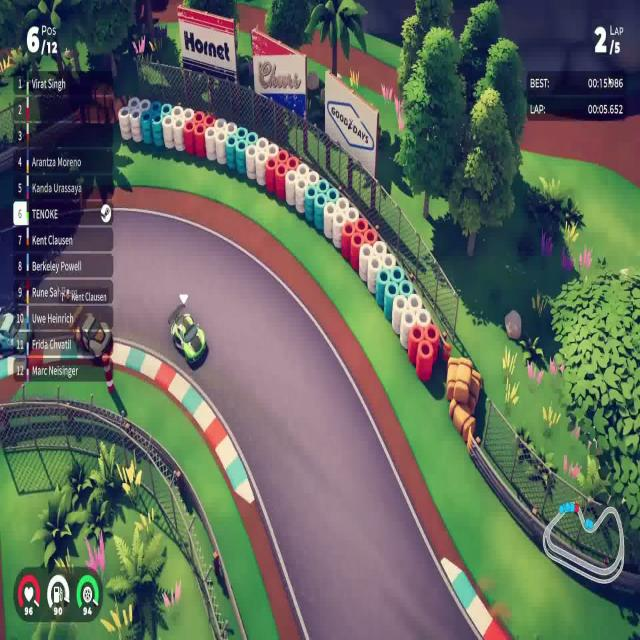car: (66, 304, 112, 357), (169, 310, 207, 367)
